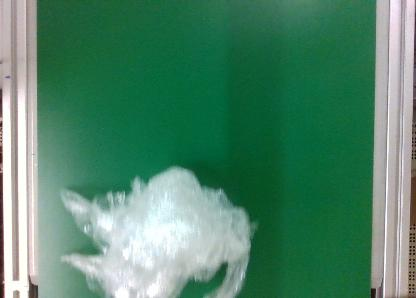Others: (55, 163, 259, 298)
